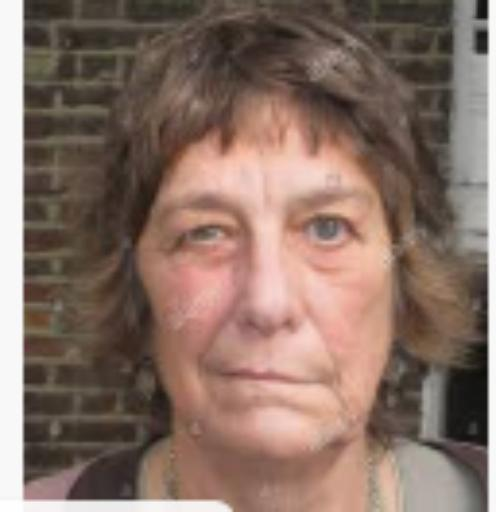left_eye: (296, 215, 361, 247)
left_lip_corner: (302, 371, 334, 393)
right_eye: (175, 220, 239, 250)
right_lip_corner: (206, 364, 240, 385)
